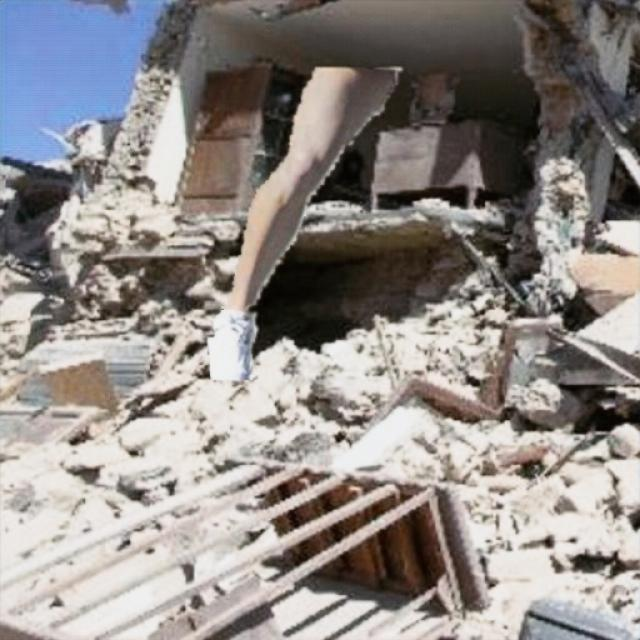Person in Rubble: (208, 68, 402, 378)
